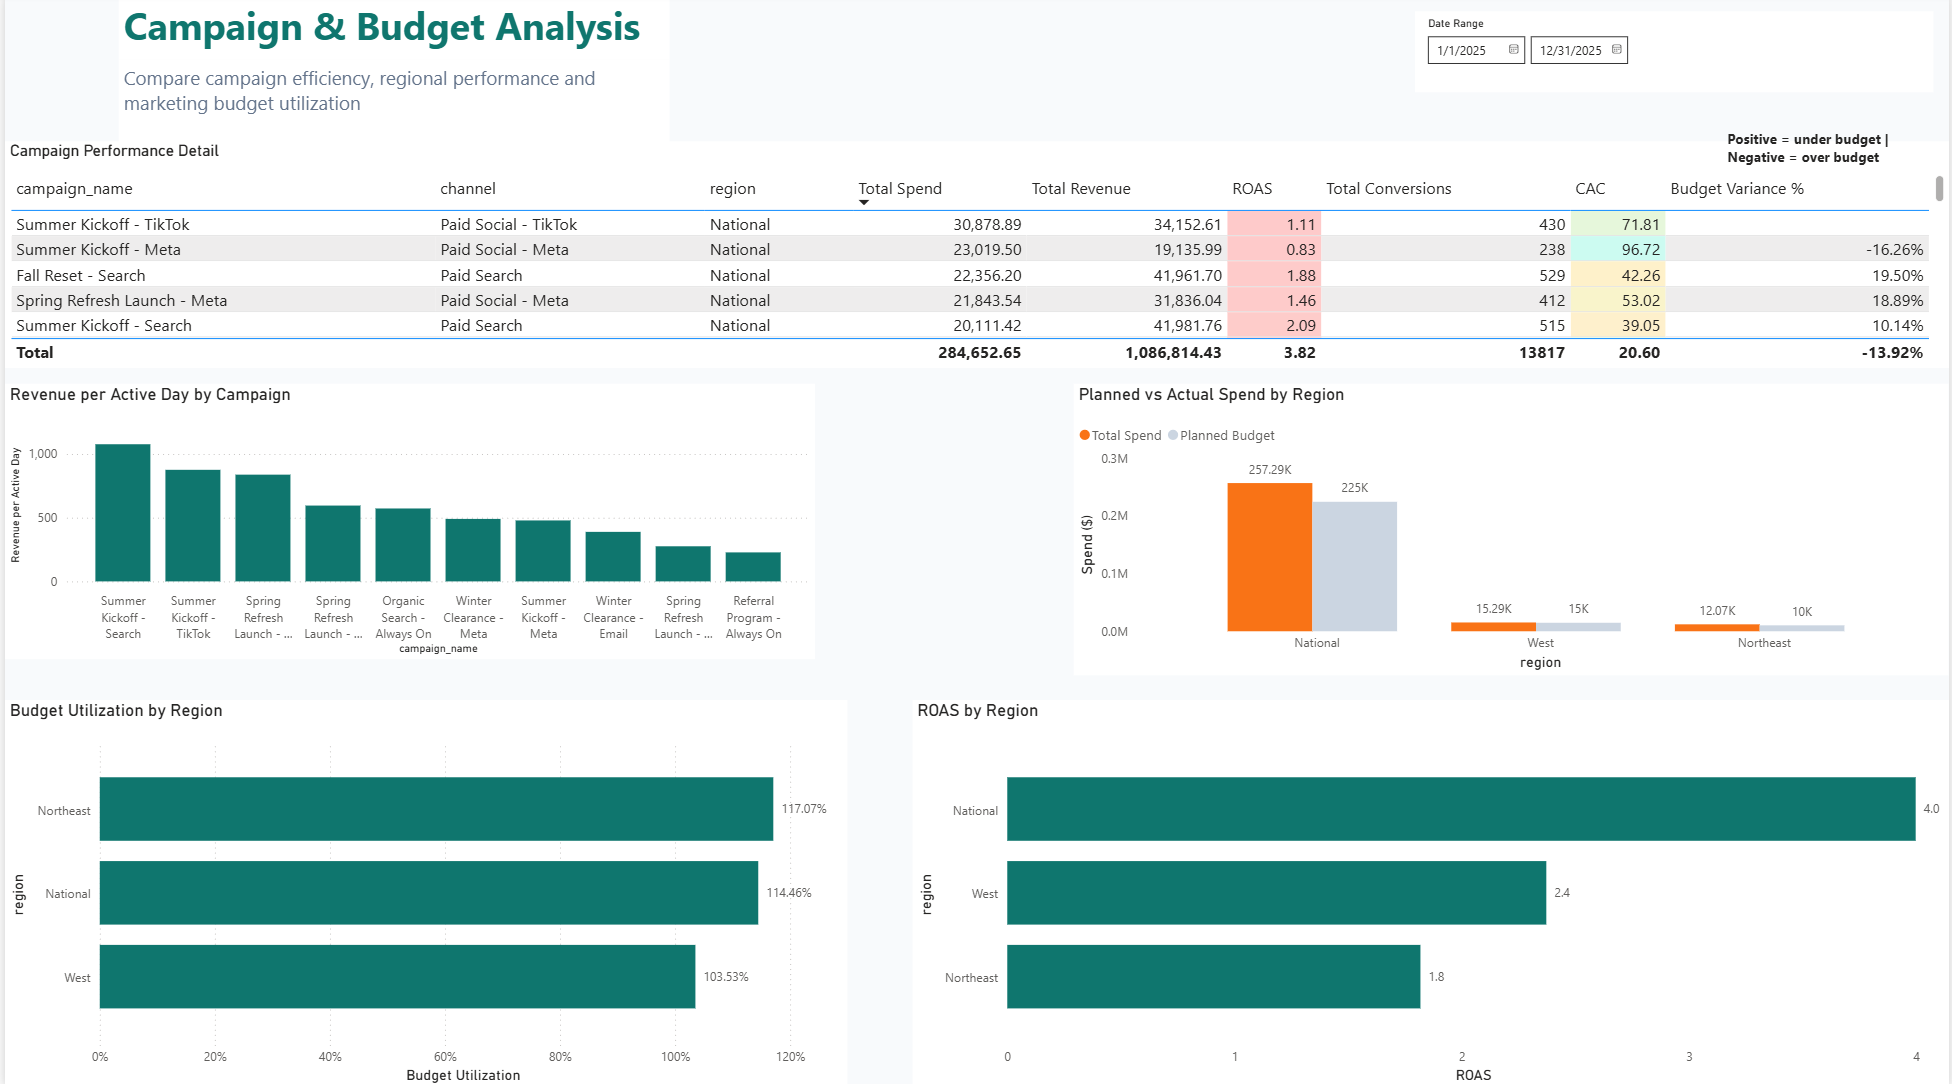

Layout of this report page (visuals, bound fields, positions):
{"tool":"powerbi","page":{"name":"Campaign & Budget Analysis","canvas":[1920,1080],"ordinal":1},"visuals":[{"type":"textbox","box":[112,0,544,64],"z":0},{"type":"textbox","box":[112,64,544,150],"z":1000},{"type":"slicer","title":"Date Range","fields":{"Values":["Date_Dimension.date"]},"box":[1392,16,512,80],"z":2000},{"type":"tableEx","title":"Campaign Performance Detail","fields":{"Values":["Campaigns.campaign_name","Campaigns.channel","Campaigns.region","Measure.Total Spend","Measure.Total Revenue","Measure.ROAS","Measure.Total Conversions","Measure.CAC","Measure.Budget Variance %"]},"box":[0,144,1920,224],"z":3000},{"type":"clusteredBarChart","title":"ROAS by Region","fields":{"Category":["Campaigns.region"],"Y":["Measure.ROAS"]},"box":[896,696,1024,384],"z":4000},{"type":"clusteredBarChart","title":"Budget Utilization by Region","fields":{"Category":["Campaigns.region"],"Y":["Measure.Budget Utilization"]},"box":[0,696,832,384],"z":5000},{"type":"textbox","box":[1696,128,224,64],"z":6000},{"type":"clusteredColumnChart","title":"Revenue per Active Day by Campaign","fields":{"Category":["Campaigns.campaign_name"],"Y":["Measure.Revenue per Active Day"]},"box":[0,384,800,272],"z":7000},{"type":"clusteredColumnChart","title":"Planned vs Actual Spend by Region","fields":{"Category":["Campaigns.region"],"Y":["Measure.Total Spend","Measure.Planned Budget"]},"box":[1056,384,864,288],"z":8000}]}

Visuals, with their boxes in screenshot pixels (x1, y1, x2, y2), scaled from the page's 1920x1080 canvas onto the 1952x1084 screenshot:
textbox: locate(114, 0, 667, 64)
textbox: locate(114, 64, 667, 215)
"Date Range" slicer: locate(1415, 16, 1936, 96)
"Campaign Performance Detail" tableEx: locate(0, 145, 1951, 369)
"ROAS by Region" clusteredBarChart: locate(911, 699, 1951, 1083)
"Budget Utilization by Region" clusteredBarChart: locate(0, 699, 846, 1083)
textbox: locate(1724, 128, 1951, 193)
"Revenue per Active Day by Campaign" clusteredColumnChart: locate(0, 385, 813, 658)
"Planned vs Actual Spend by Region" clusteredColumnChart: locate(1074, 385, 1951, 674)
